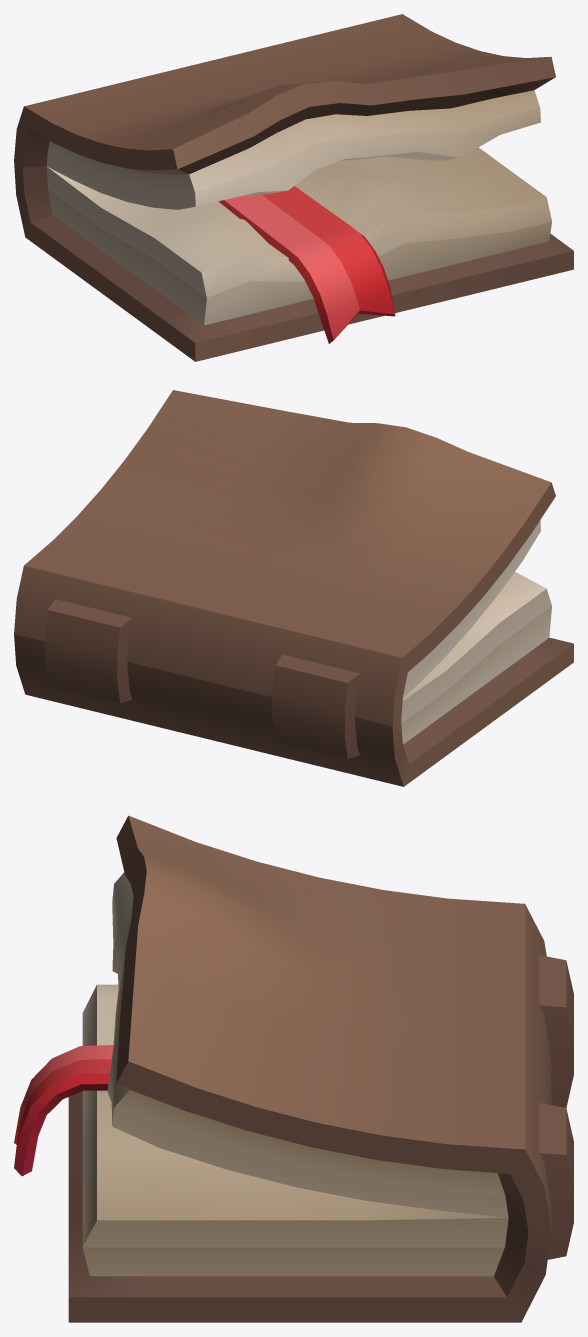
The model's file is book_mimic.gltf.
3 views of the same model, one above another, from view 1: azimuth 30°, elevation 25°; view 2: azimuth 150°, elevation 25°; view 3: azimuth 270°, elevation 25° (orthographic). The views are drawn at different scales.
Visible parts, largest first — view 1: book_mimic_top, book_mimic, book_mimic_tongue; view 2: book_mimic_top, book_mimic; view 3: book_mimic_top, book_mimic, book_mimic_tongue.
Boxes of the visible parts, box(x1,y1,x2,y2) form: book_mimic_top: box(14, 14, 555, 209); book_mimic: box(14, 147, 573, 361); book_mimic_tongue: box(219, 186, 395, 343); book_mimic_top: box(14, 390, 555, 731); book_mimic: box(14, 572, 573, 786); book_mimic_top: box(107, 815, 551, 1245); book_mimic: box(68, 955, 573, 1322); book_mimic_tongue: box(14, 1045, 113, 1176).
Bounding box in the file's own units: 0.7906 × 0.4445 × 0.7614.
1 material, 1 textured.
